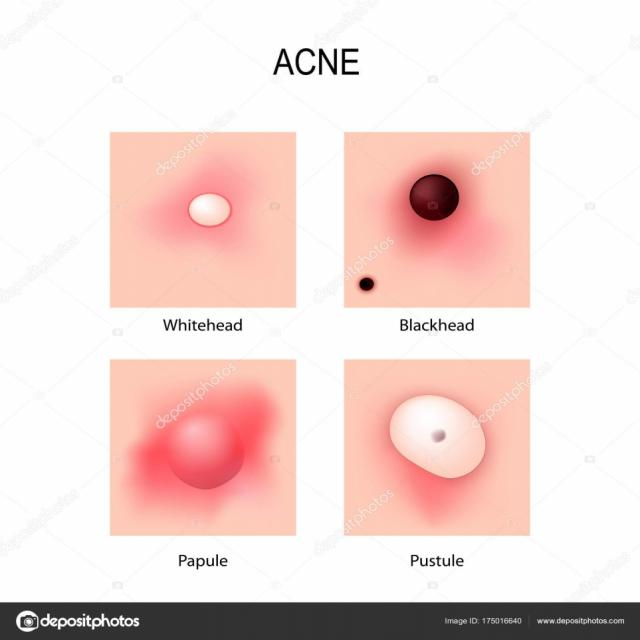acne: (369, 374, 485, 491), (169, 176, 257, 256), (398, 162, 471, 238), (349, 269, 380, 300)
